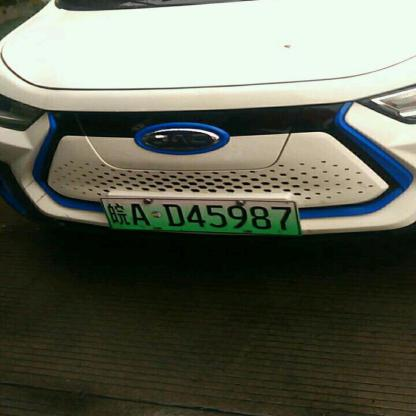lp: (101, 197, 301, 236)
